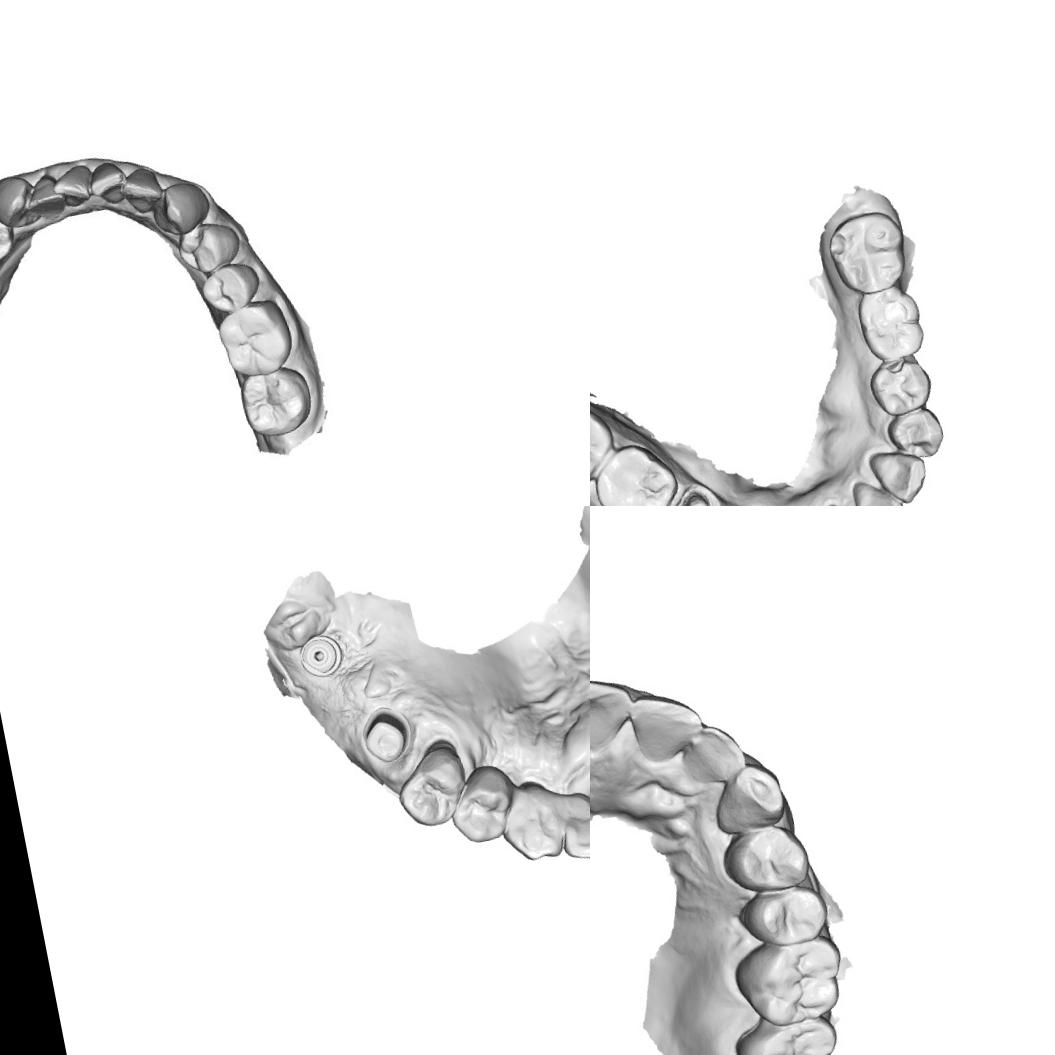abutment: (354, 706, 415, 768)
canine: (702, 755, 792, 840), (493, 777, 568, 867), (147, 178, 213, 240), (866, 444, 932, 506), (0, 169, 41, 236)
crown: (662, 484, 720, 506)
implant: (296, 629, 344, 681)
incisor: (626, 683, 709, 762), (678, 717, 751, 786), (590, 662, 640, 762), (551, 784, 590, 865), (119, 162, 164, 210), (53, 160, 98, 207), (848, 472, 908, 506), (24, 173, 66, 219), (90, 161, 126, 199)
molar: (727, 930, 856, 1034), (822, 206, 914, 300), (214, 296, 300, 382), (590, 433, 686, 506), (234, 362, 316, 440), (852, 283, 929, 366), (730, 1009, 848, 1055), (590, 392, 623, 495)
premolar: (716, 818, 812, 900), (388, 742, 474, 832), (734, 877, 834, 954), (440, 761, 518, 852), (864, 353, 937, 420), (172, 214, 244, 279), (195, 256, 266, 318), (881, 403, 948, 465), (0, 206, 18, 272)
